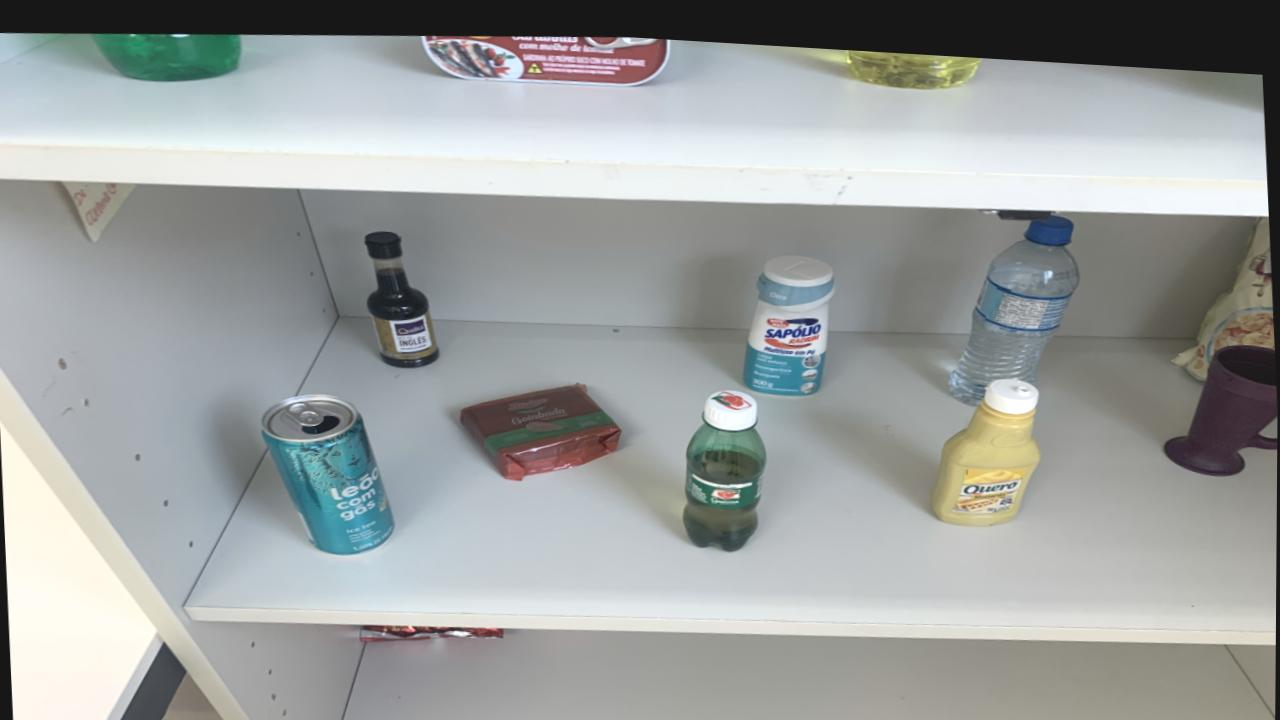Cleaner-Cleanup_Items: (744, 246, 835, 385)
Detergent-Cleanup_Items: (92, 32, 240, 79), (846, 39, 981, 77)
English_Sauce-Pantry_Items: (363, 226, 439, 363)
Flakes-Snacks: (1173, 202, 1275, 364)
Guarana-Drinks: (683, 382, 766, 541)
Guava-Snacks: (461, 375, 622, 473)
Mustard-Pantry_Items: (932, 365, 1040, 514)
Tea-Drinks: (262, 392, 394, 549)
Tuna_Can-Pantry_Items: (421, 29, 669, 78)
Water_Bottle-Drinks: (949, 201, 1079, 392)
